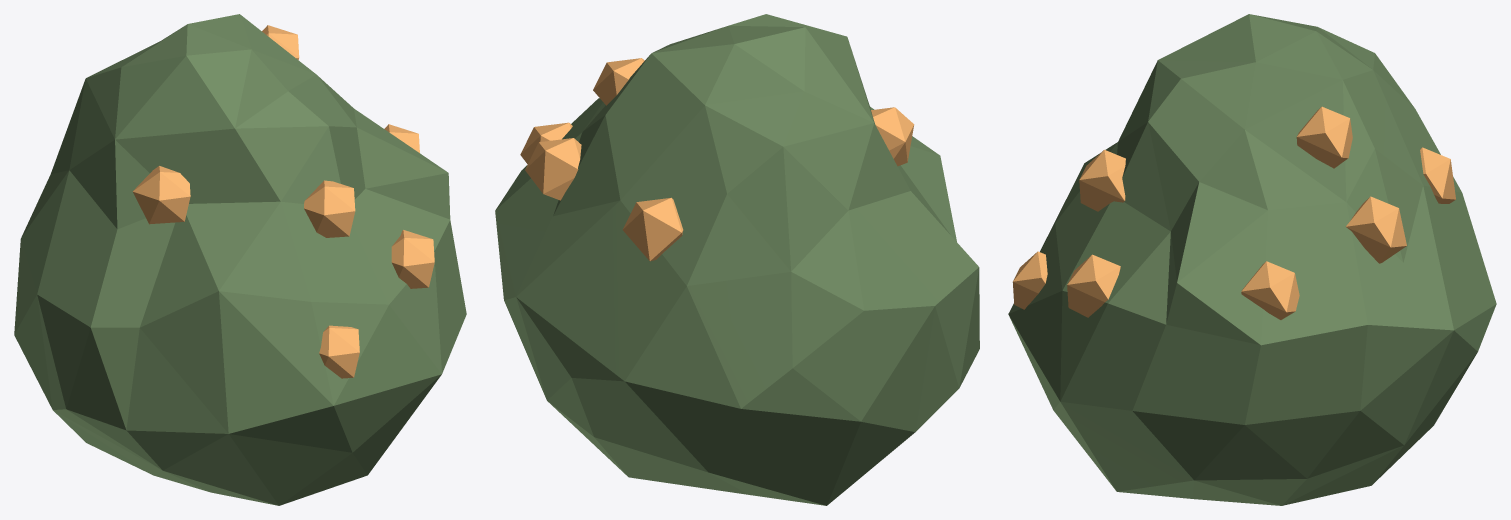
The model's file is Bush_02.glb.
3 views of the same model, side by side, from view 1: azimuth 30°, elevation 25°; view 2: azimuth 150°, elevation 25°; view 3: azimuth 270°, elevation 25° (orthographic). The views are drawn at different scales.
Visible parts, largest first — view 1: Bush_02; view 2: Bush_02; view 3: Bush_02.
Part boxes in pixels (bbox=[...]): Bush_02: bbox=[14, 14, 466, 505]; Bush_02: bbox=[495, 14, 979, 505]; Bush_02: bbox=[1008, 14, 1496, 505].
Bounding box in the file's own units: 4.35 × 4.25 × 4.5.
